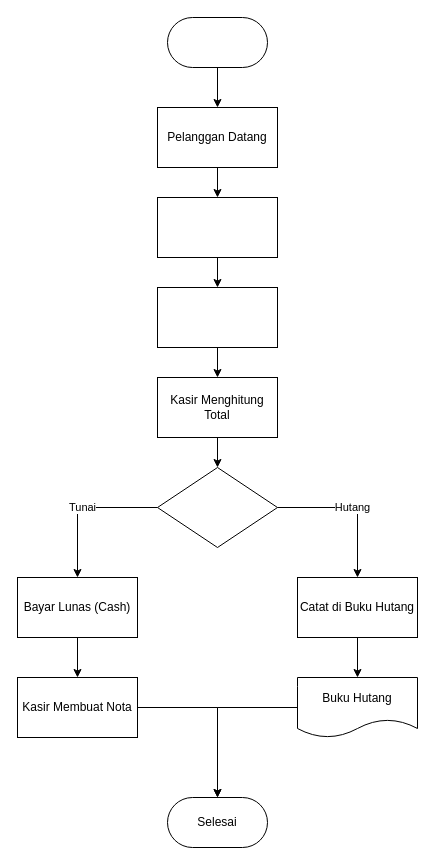
This 435x865 diagram has some shape labels left out. Here are the shapes that lost their labels. From the top down, the box of each, then its label:
(166, 16, 268, 68): Mulai
(156, 196, 278, 258): Memilih Barang
(156, 286, 278, 348): Membawa Barang ke Kasir
(156, 466, 278, 548): Metode Pembayaran?
